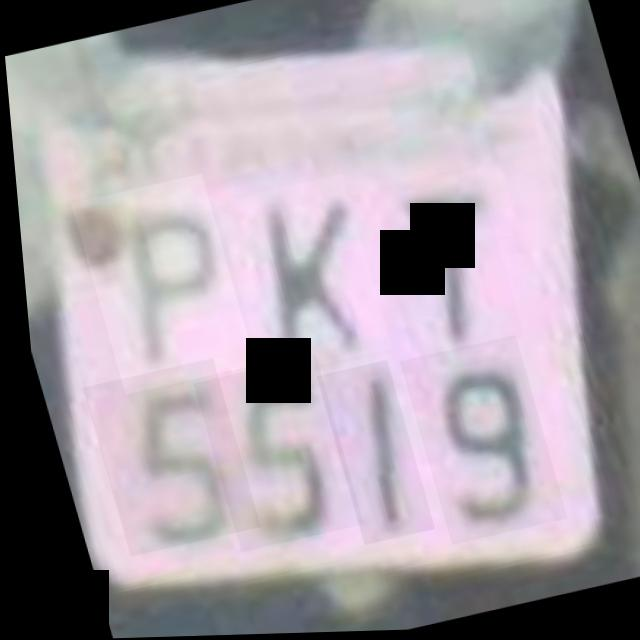1: (308, 361, 426, 548)
5: (73, 359, 253, 557), (184, 357, 356, 554)
9: (391, 337, 559, 548)
N: (209, 176, 387, 381)
P: (66, 174, 251, 396)
T: (362, 168, 519, 365)
